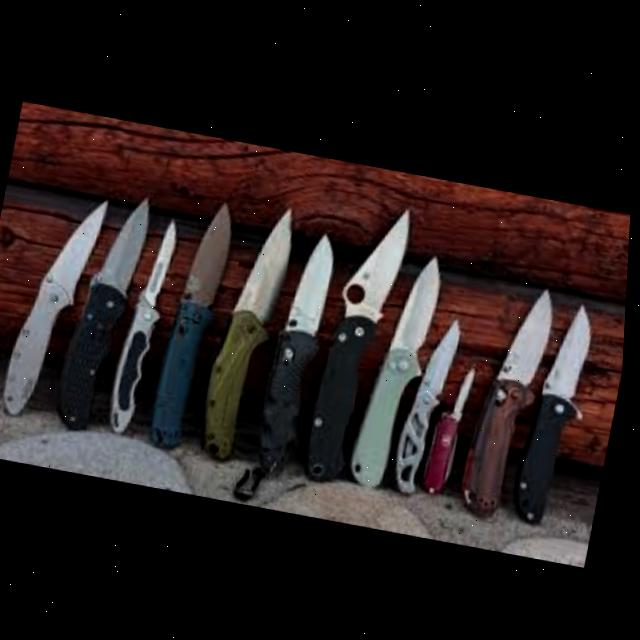Knife: (308, 191, 420, 485), (239, 220, 345, 506), (200, 195, 303, 463), (5, 183, 113, 424), (56, 184, 158, 434), (462, 271, 564, 519), (352, 241, 451, 487), (153, 191, 241, 450), (517, 289, 607, 522), (111, 208, 185, 435), (397, 308, 469, 493), (428, 354, 482, 491)
